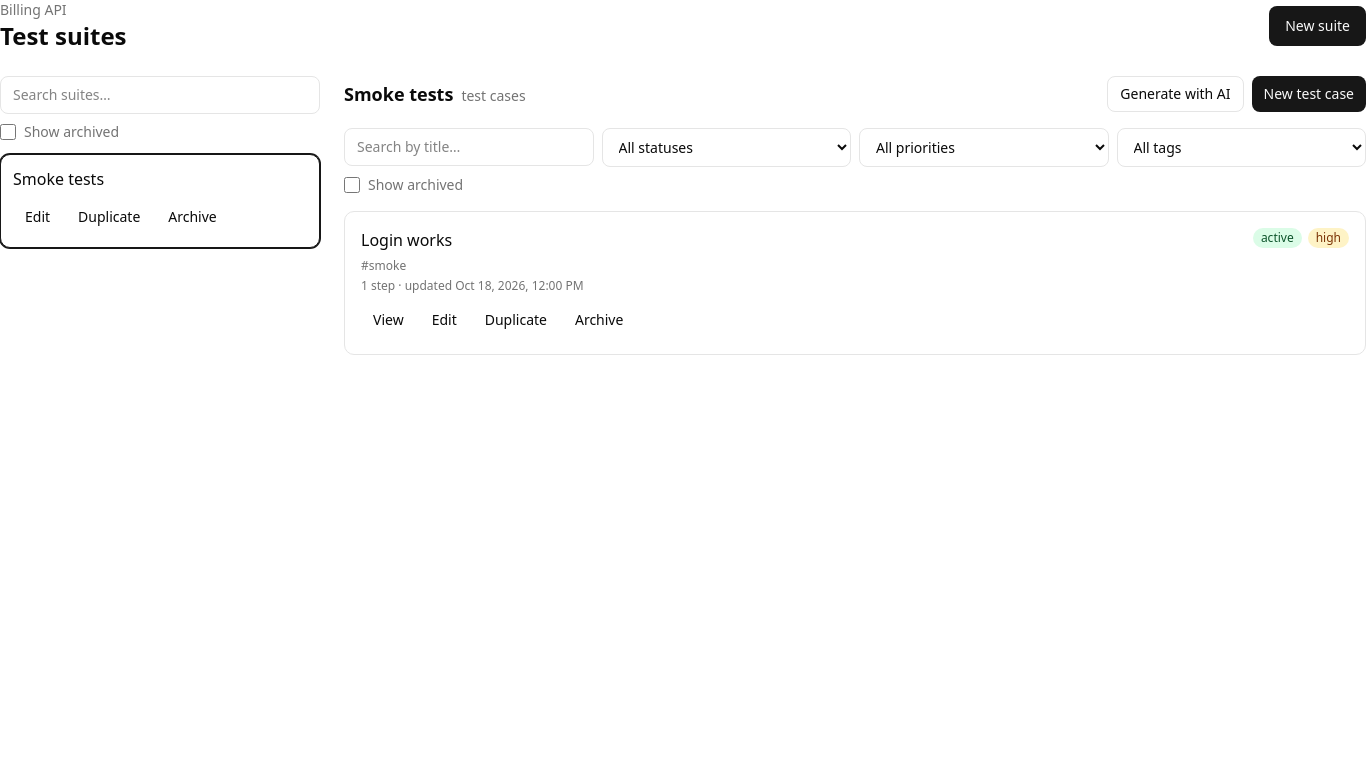
Test: TestManagement › creates a suite and shows a notice
This screenshot has width=1366, height=768.
Check: the button "Smoke tests" is shown, box [13,167,307,191]
Click the button "New suite". click: (1318, 26)
box: [1269,6,1365,46]
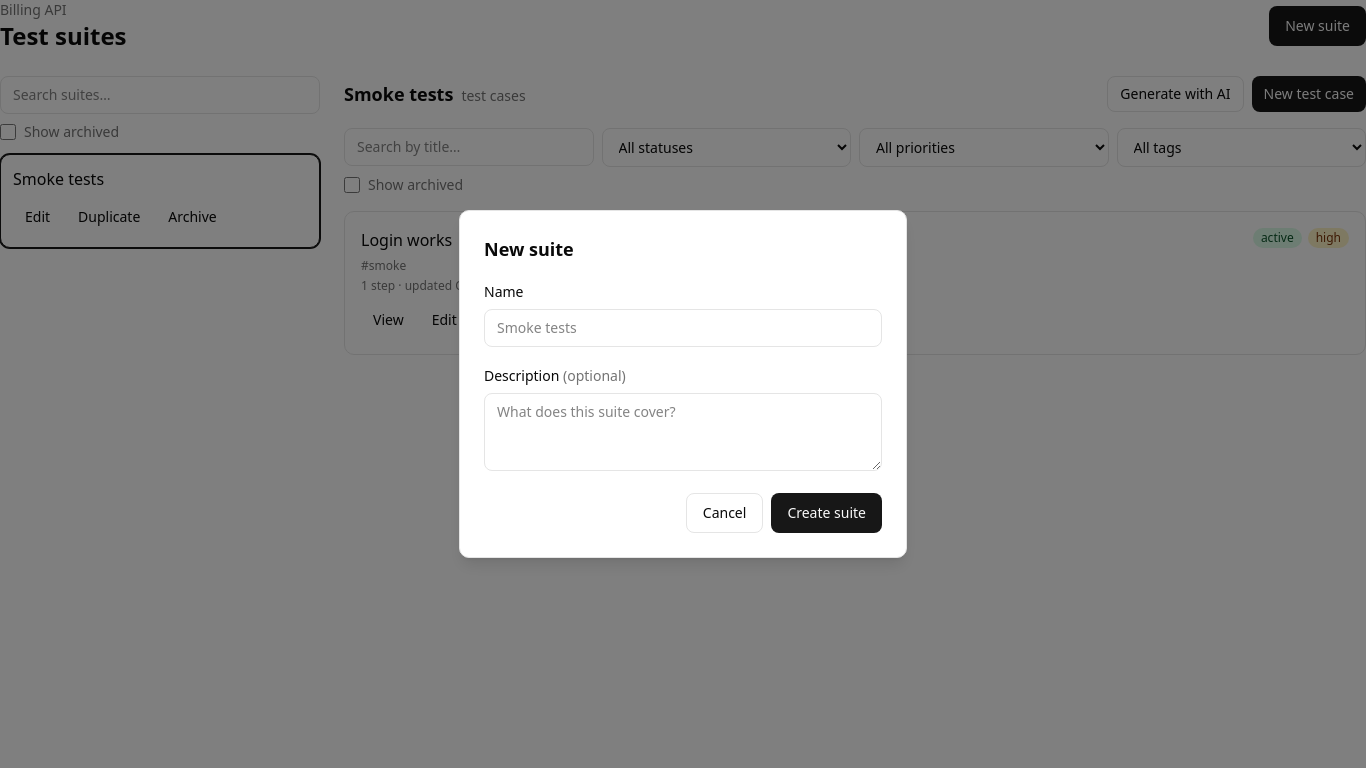
Type "Regression" into the field labelled "Name". click: (683, 328)
box: [484,309,882,347]
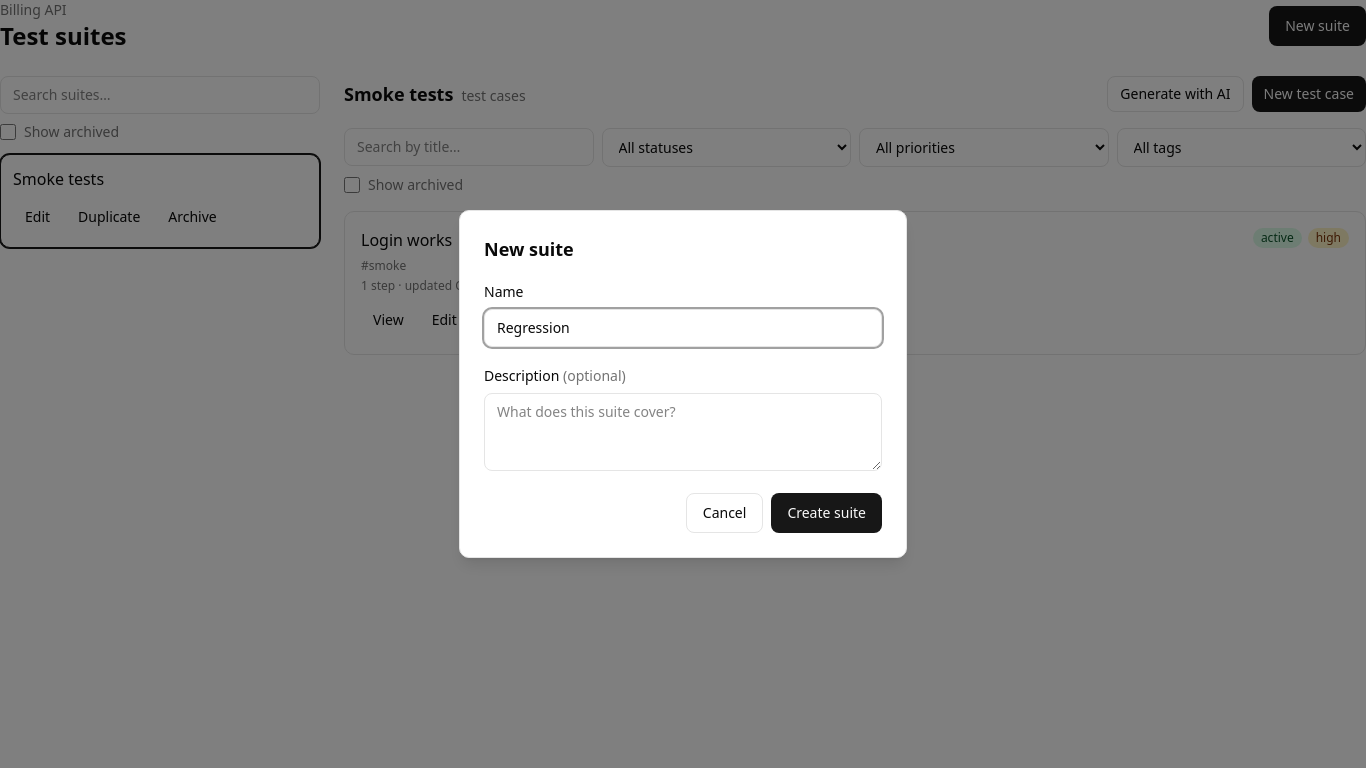
Click the button "Create suite". click: (827, 513)
box: [771,493,882,533]
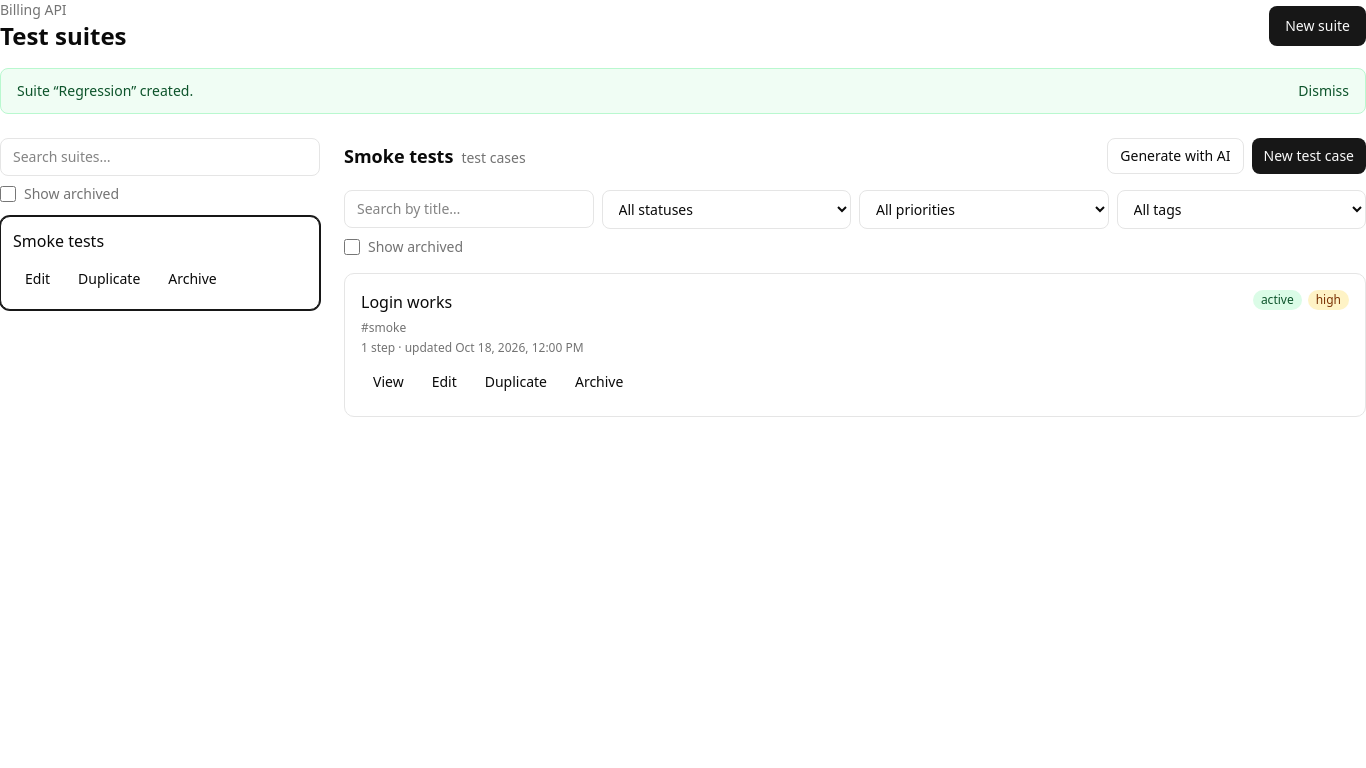
Check: the message reads "Suite “Regression” created.", box [17,81,193,100]
